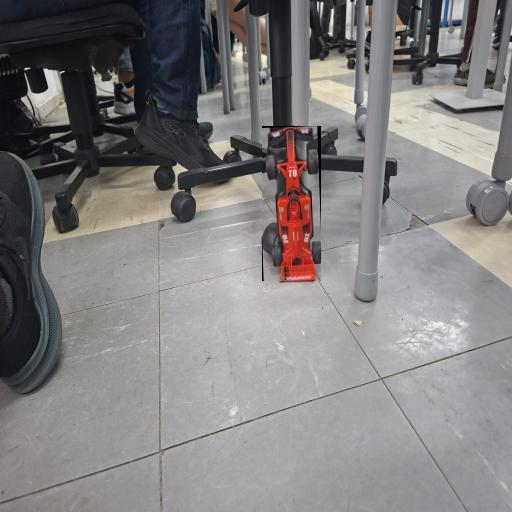carro: (261, 126, 320, 281)
